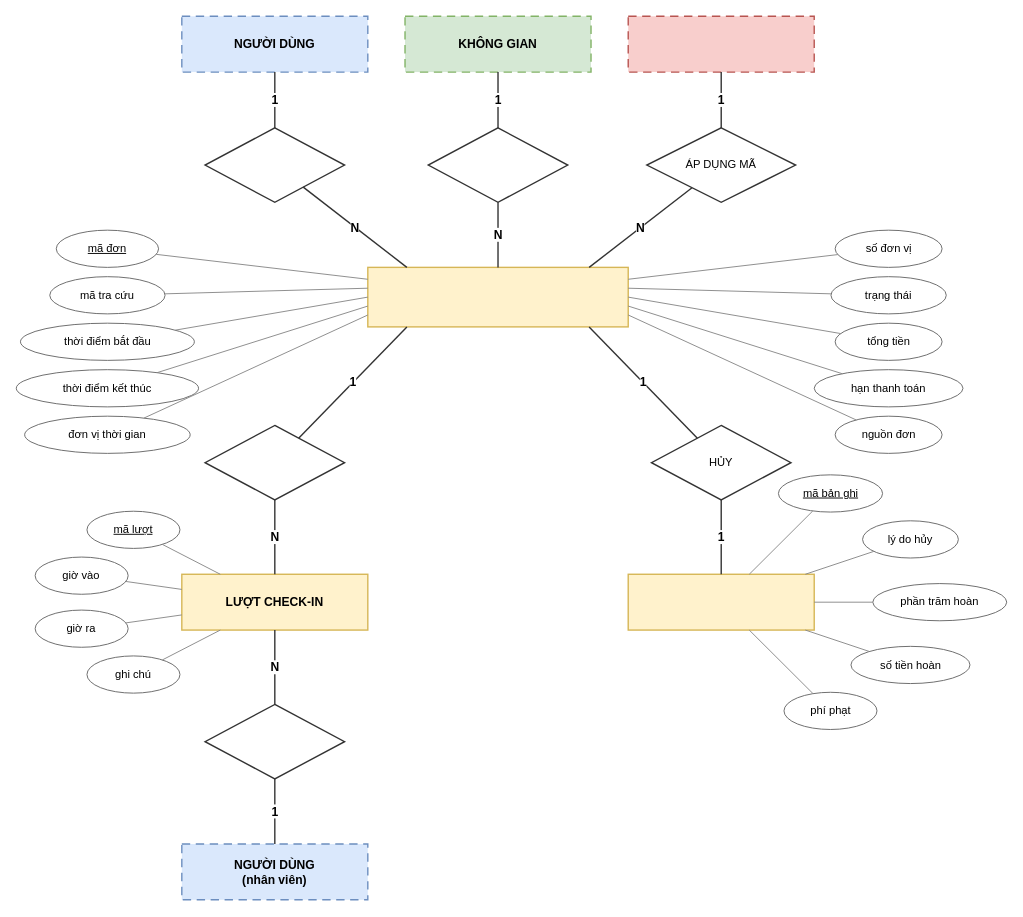
Image size: 1023x917. Some labels were removed from this diagram. The shapes that lost their labels are listed below. From the top down, each one's box as (x1, y1, x2, y2) in pixels, then its label:
(627, 15, 814, 72): KHUYẾN MÃI
(204, 127, 345, 203): ĐẶT
(427, 127, 568, 203): TẠI
(367, 266, 628, 327): ĐẶT CHỖ
(204, 424, 345, 500): GHI NHẬN
(627, 573, 814, 630): BẢN GHI HỦY
(204, 703, 345, 779): THỰC HIỆN
